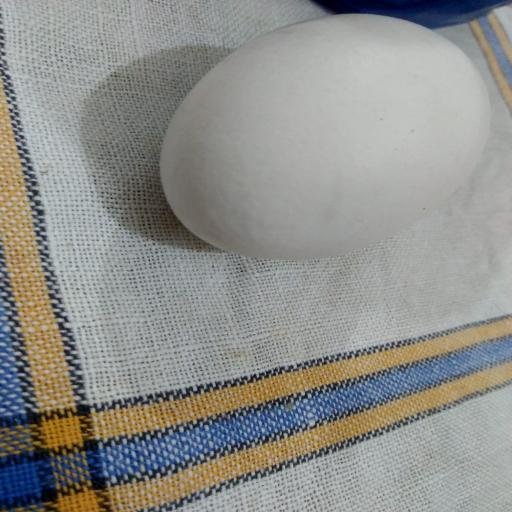telur: (159, 10, 495, 266)
